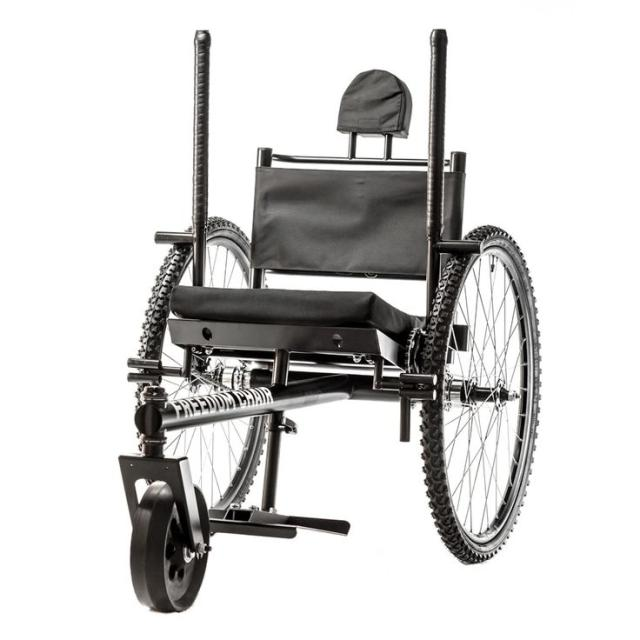wheelchairs: (214, 133, 543, 564)
